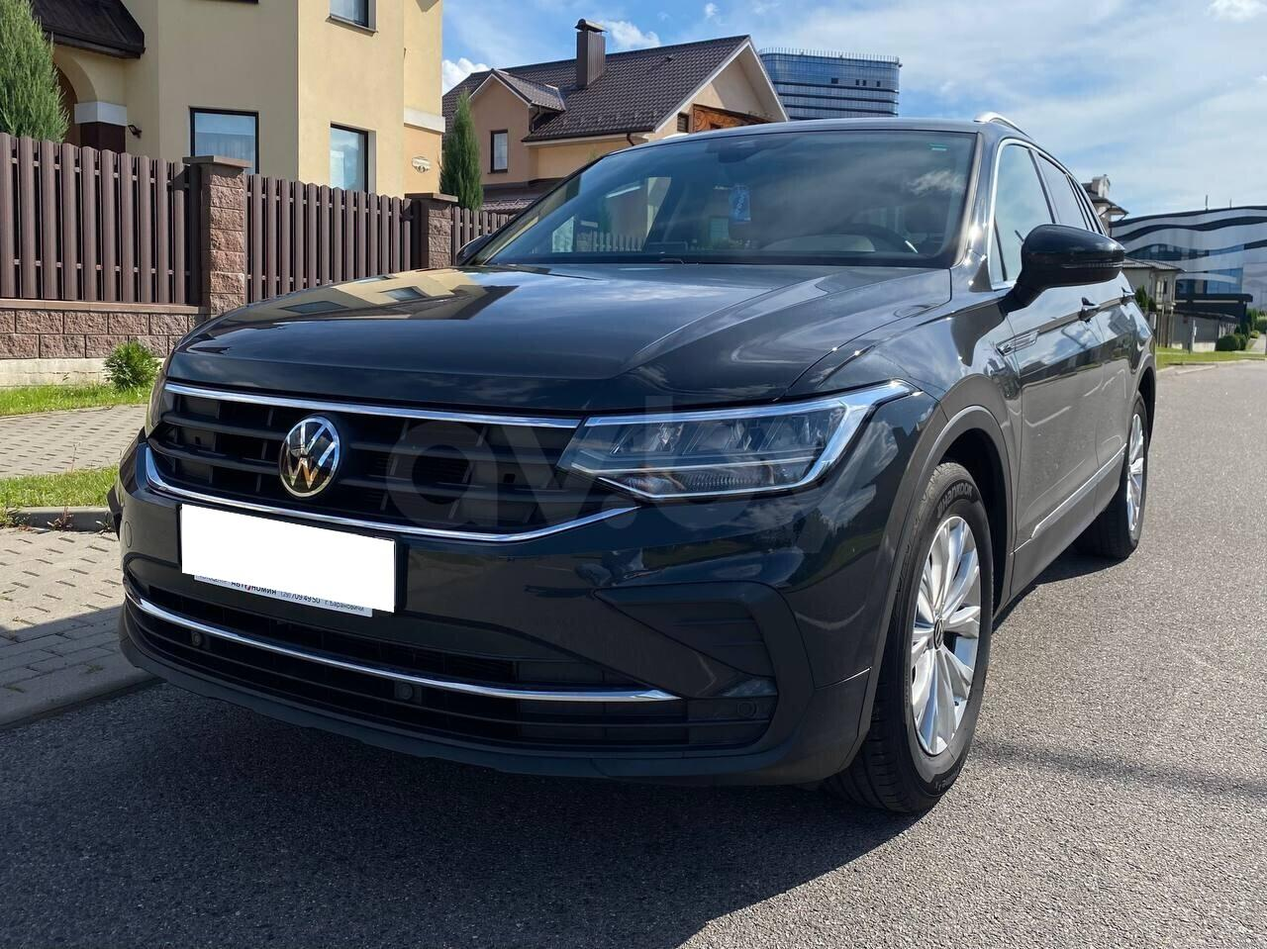Tiguan_2020-2024: (111, 106, 1157, 814)
